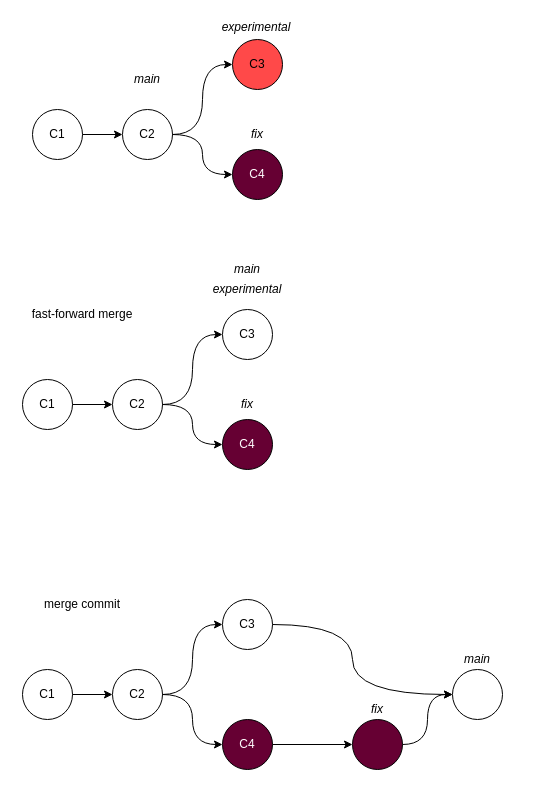
Image size: 539x787. Some labels were removed from this diagram. Each missing label, with the box of its shape:
C5: (352, 718, 402, 770)
C6: (452, 668, 502, 720)
